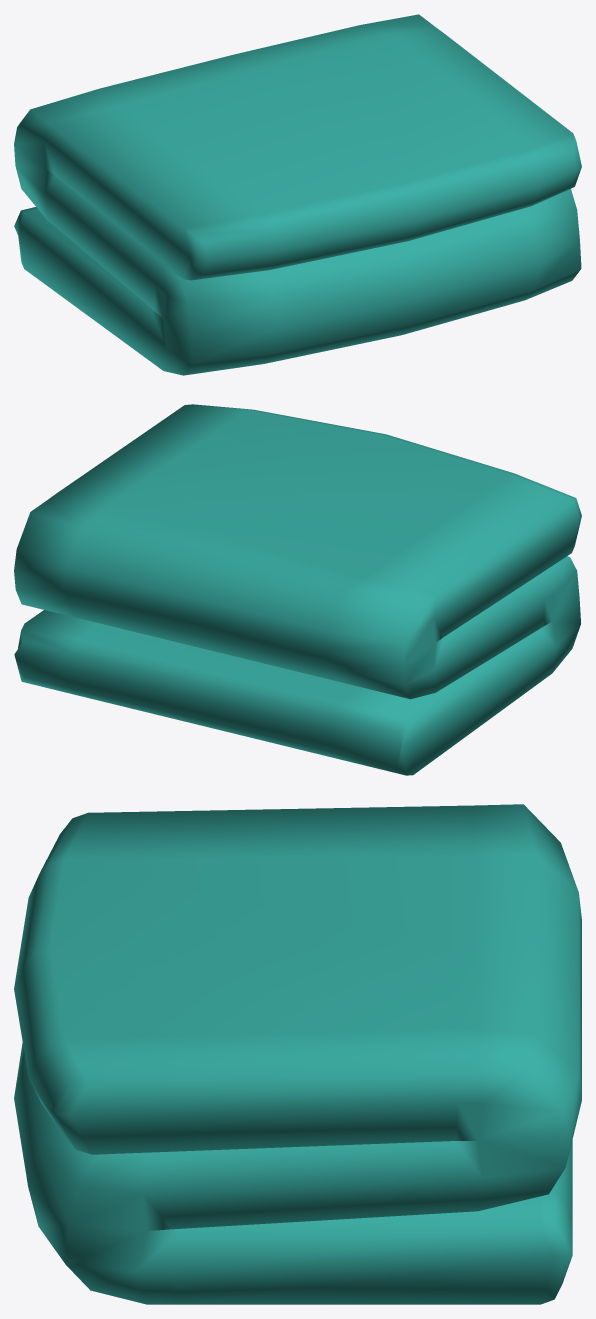
Rendered from Towel.FBX.
3 views of the same model, one above another, from view 1: azimuth 30°, elevation 25°; view 2: azimuth 150°, elevation 25°; view 3: azimuth 270°, elevation 25° (orthographic). The views are drawn at different scales.
Parts seen in each view (by area): view 1: Towel; view 2: Towel; view 3: Towel.
Boxes of the visible parts, bbox=[...] form: Towel: bbox=[14, 14, 581, 375]; Towel: bbox=[14, 404, 581, 775]; Towel: bbox=[14, 804, 581, 1304].
Bounding box in the file's own units: 5.44 × 4.86 × 2.24.
